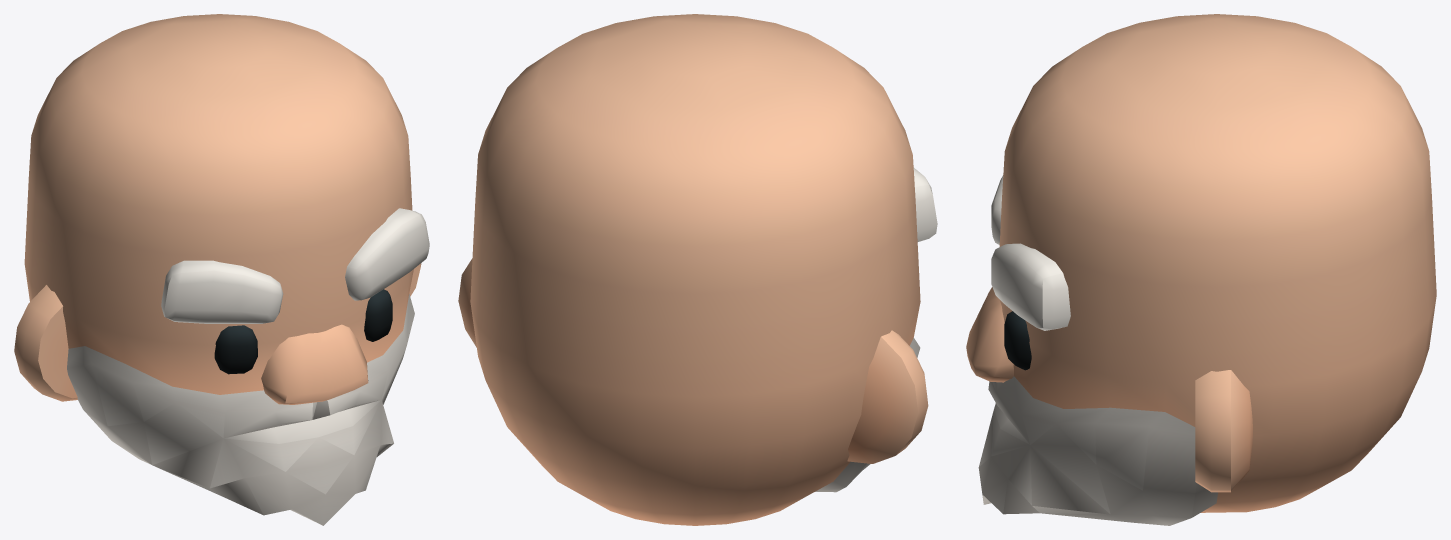
File: abbot_head.glb
The picture shows the model from 3 angles, left to right: view 1: azimuth 30°, elevation 25°; view 2: azimuth 150°, elevation 25°; view 3: azimuth 270°, elevation 25°; orthographic projection. The views are drawn at different scales.
Parts seen in each view (by area): view 1: abbot_head; view 2: abbot_head; view 3: abbot_head.
Part boxes in pixels (left/top/right/bottom): abbot_head: left=14, top=14, right=429, bottom=525; abbot_head: left=458, top=14, right=937, bottom=525; abbot_head: left=966, top=14, right=1436, bottom=525.
Size of the model in its own units: 1.09 by 1.05 by 0.985.
Materials: 1 (1 with a texture image).
